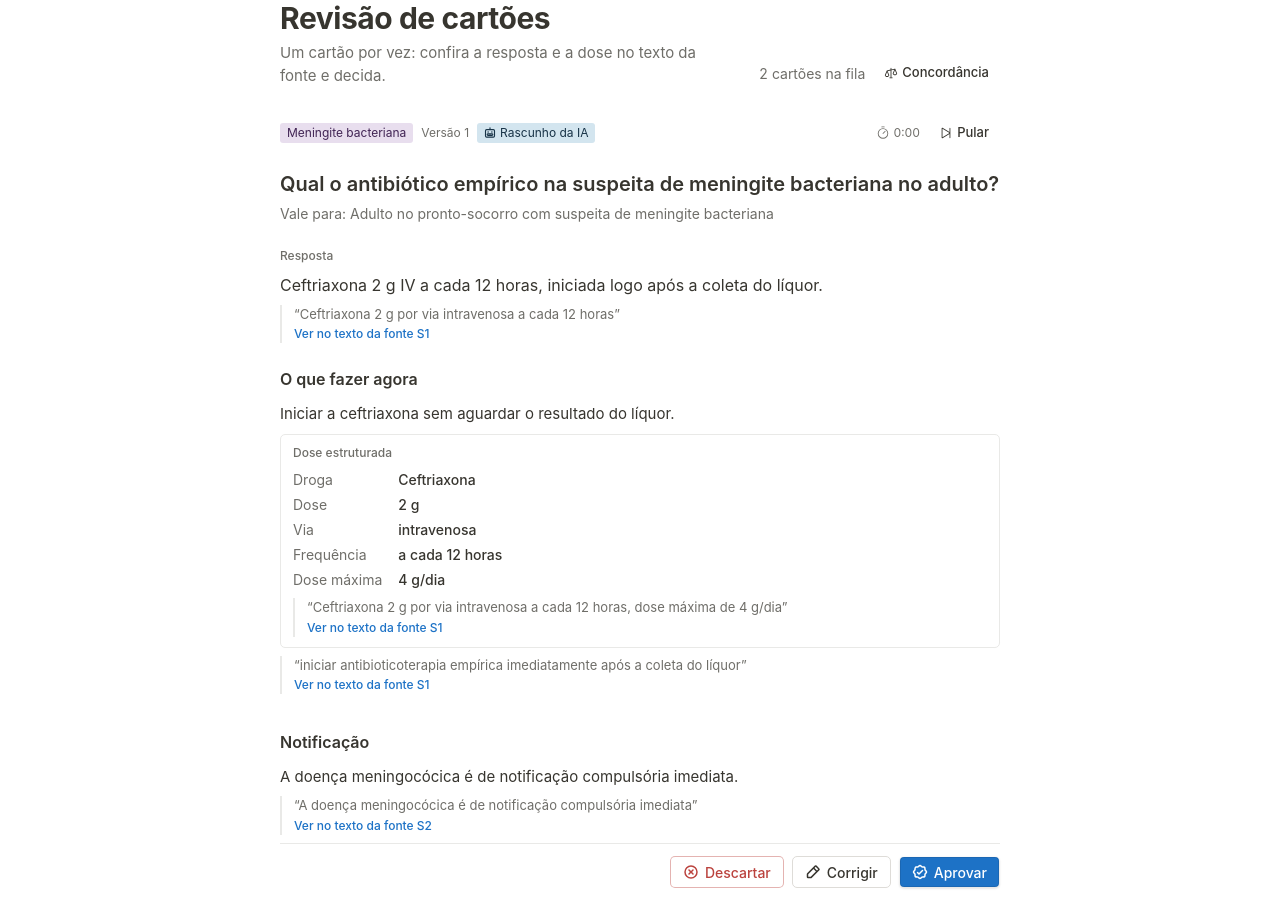
Test: Revisão de cartões (CC-404) › corrigir salva a versão nova e mostra o que mudou
Expected: the heading "Qual o antibiótico empírico na suspeita de meningite bacteriana no adulto?" is shown, [280,171,1000,197]
Click the 3rd button named "Corrigir": x=841, y=872 [792,856,891,888]
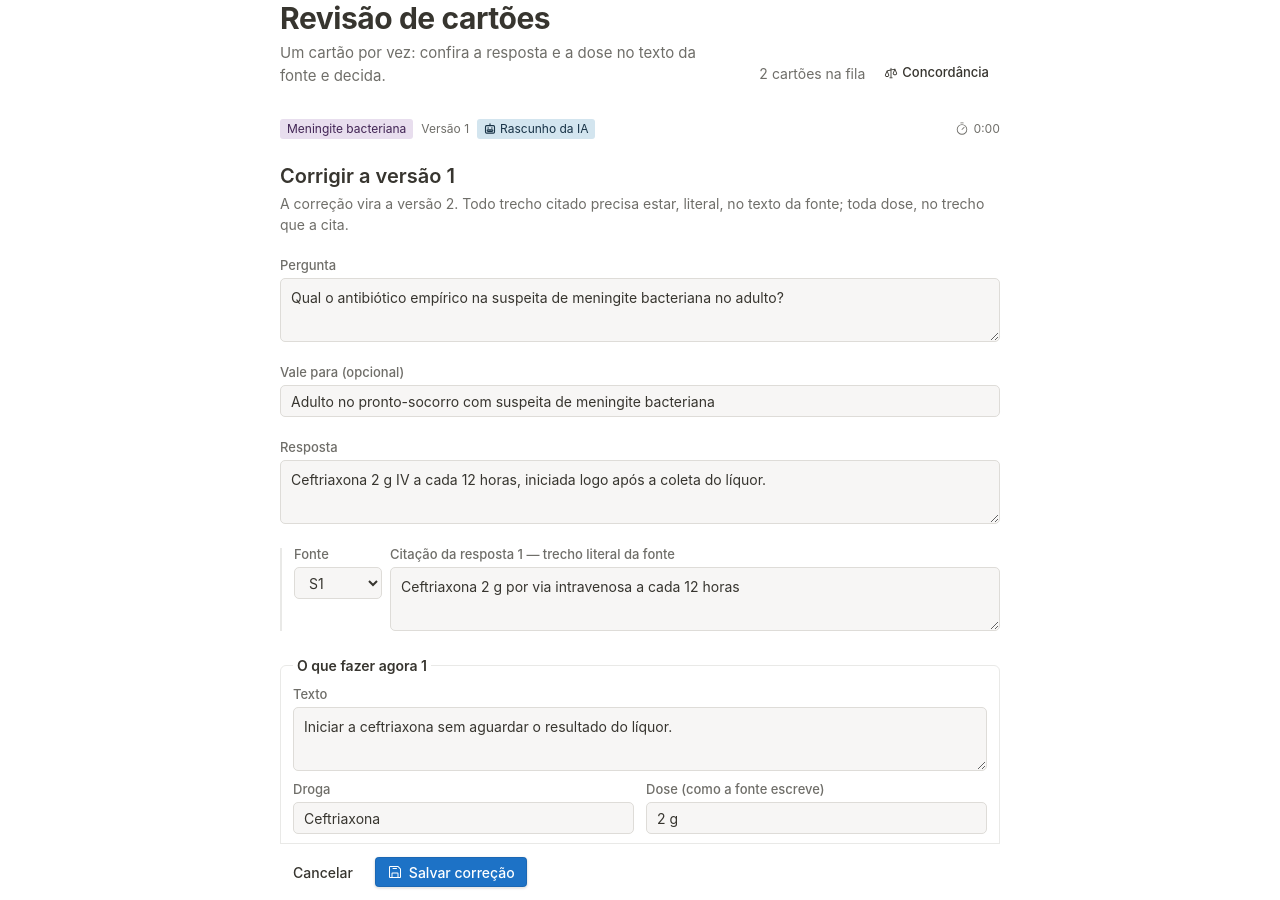
Result: the heading "Corrigir a versão 1" is shown at [280,164,455,188]
Replace the text in the text box labelled "Resposta" with "Ceftriaxona 2 g IV a cada 12 horas, logo após a coleta do líquor e sem esperar a cultura.": x=640, y=492 [280,460,1000,524]
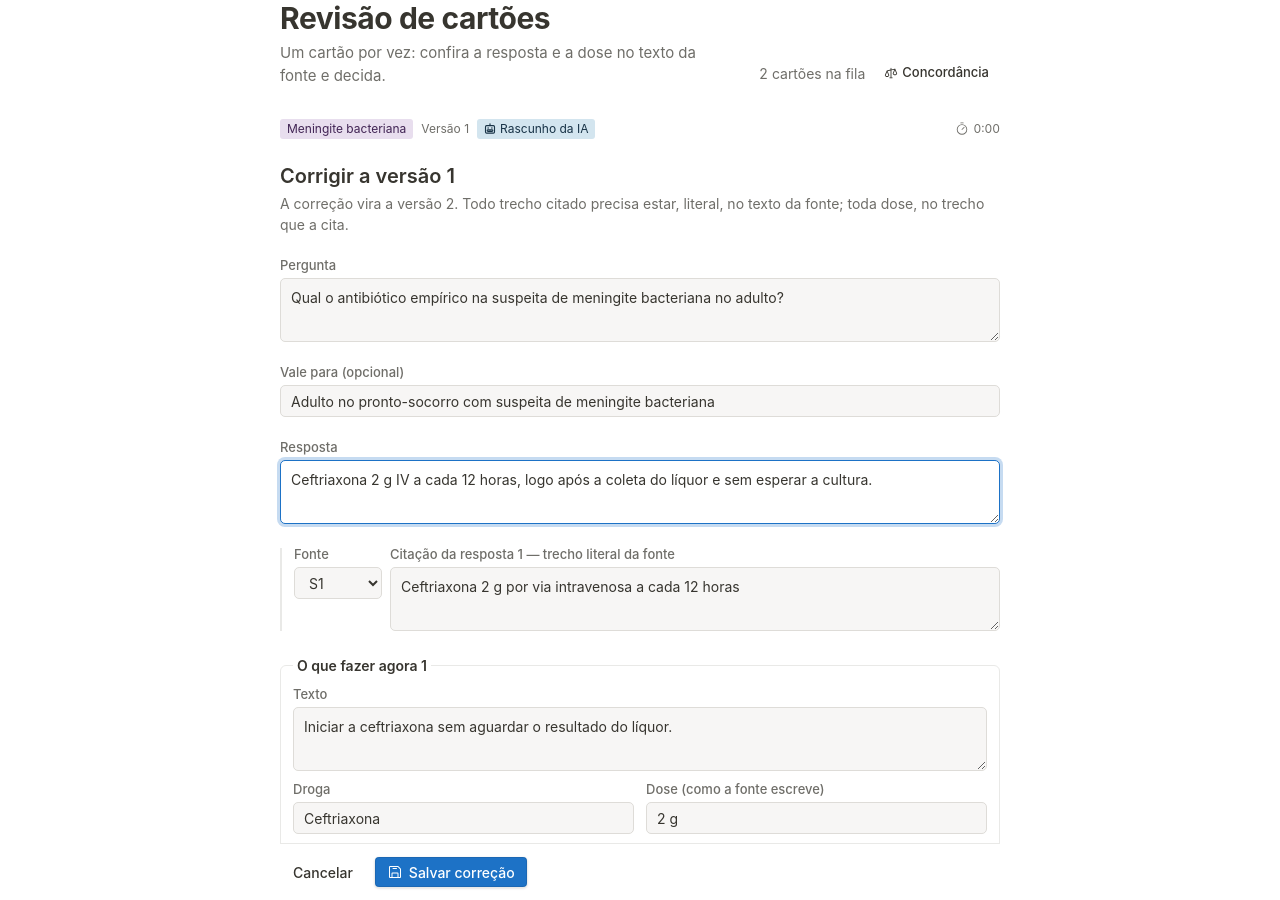
Click the 2nd button named "Salvar correção": x=451, y=872 [374,856,528,888]
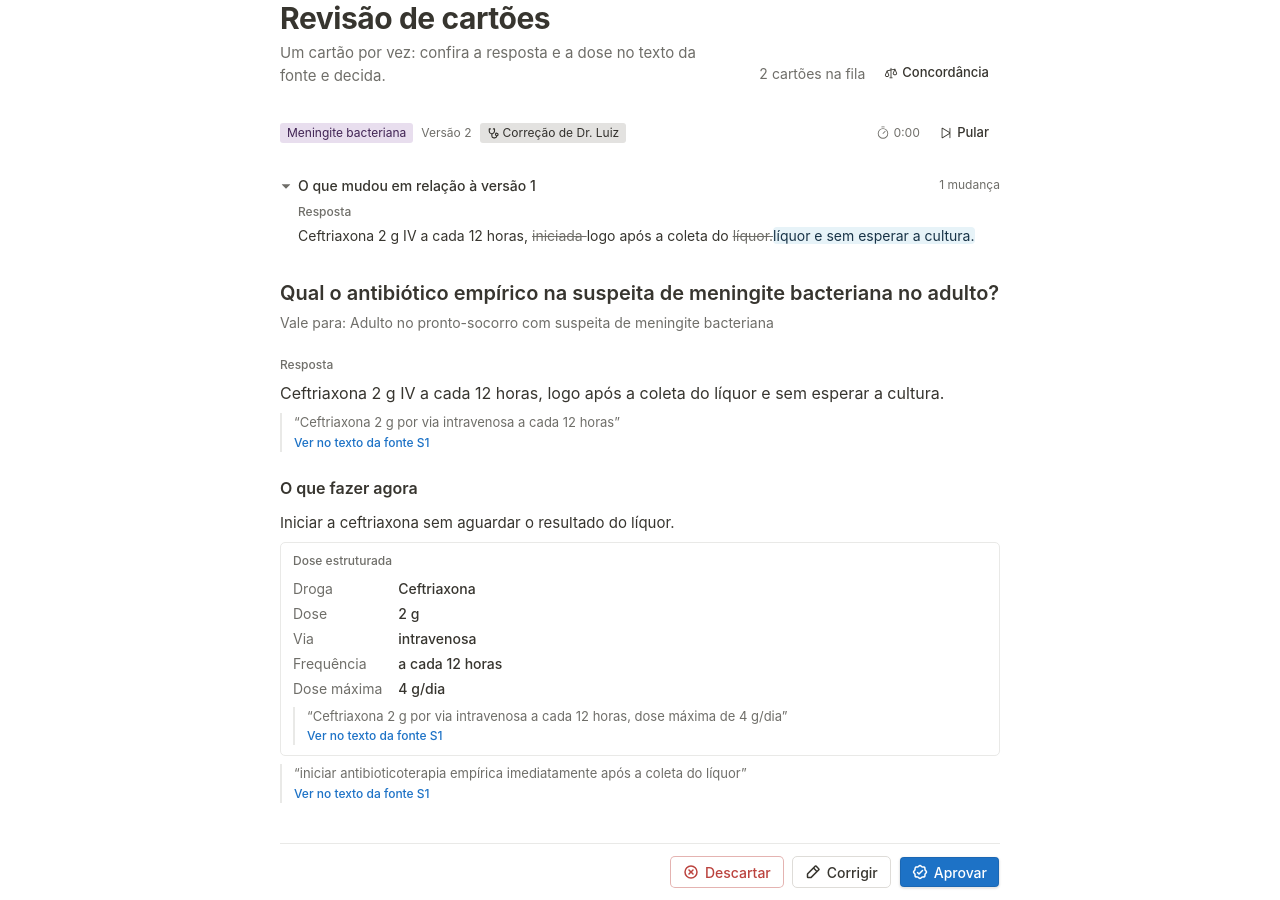
Result: the text "Resposta" is shown at [298,204,351,219]
Result: the element showing "iniciada" is shown at [532,227,587,244]
Result: the element showing "líquor e sem esperar a cultura." is shown at [773,227,974,244]
Click the 4th button named "Aprovar": x=949, y=872 [899,856,1000,888]
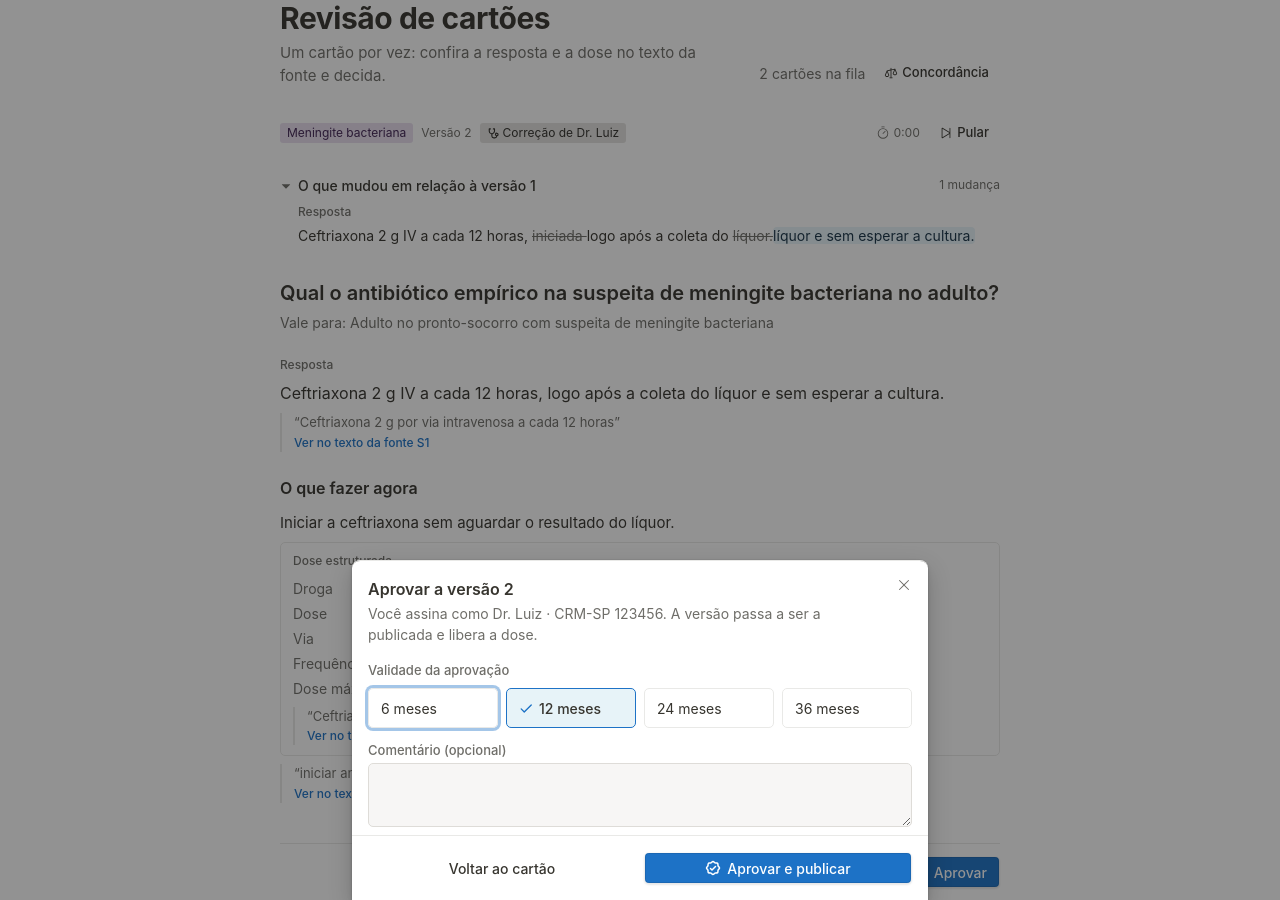
Result: the dialog "Aprovar a versão 2" is shown at [352,560,928,899]
